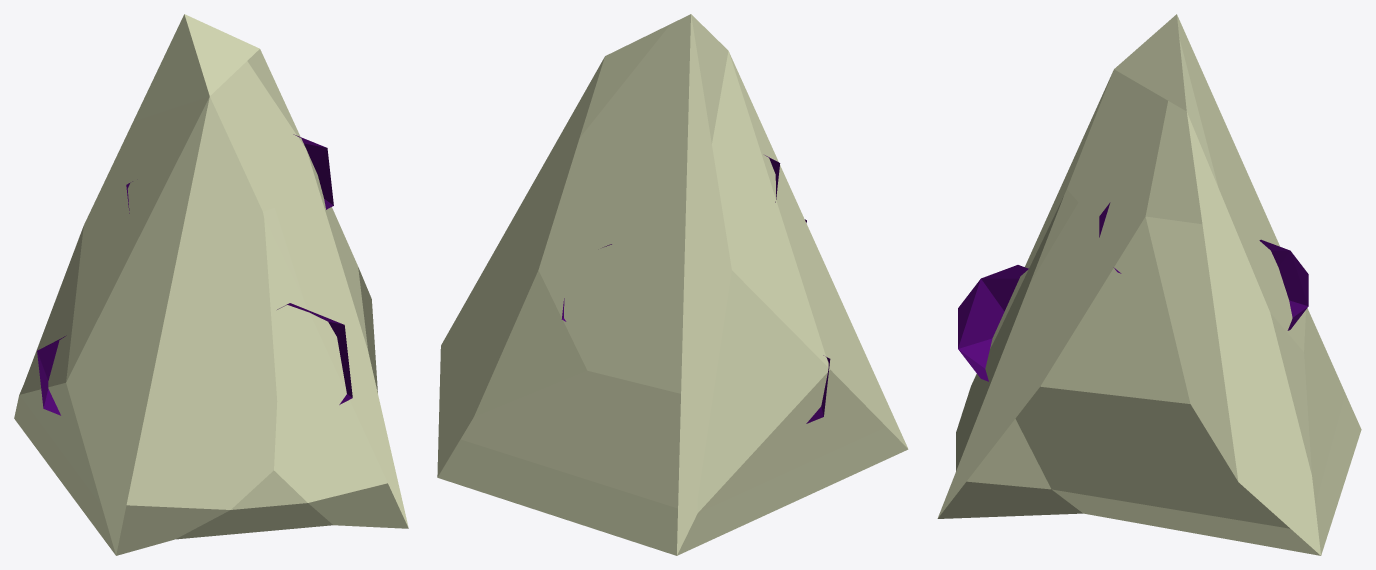
File: AlchemyPowder.fbx
3 views of the same model, side by side, from view 1: azimuth 30°, elevation 25°; view 2: azimuth 150°, elevation 25°; view 3: azimuth 270°, elevation 25° (orthographic).
Visible parts, largest first — view 1: AlchemyPowder; view 2: AlchemyPowder; view 3: AlchemyPowder.
Part boxes in pixels (x1,y1,x2,y2): AlchemyPowder: (14,14,408,555); AlchemyPowder: (437,14,908,555); AlchemyPowder: (937,14,1361,555).
Size of the model in its own units: 14.42 by 17.31 by 14.66.
